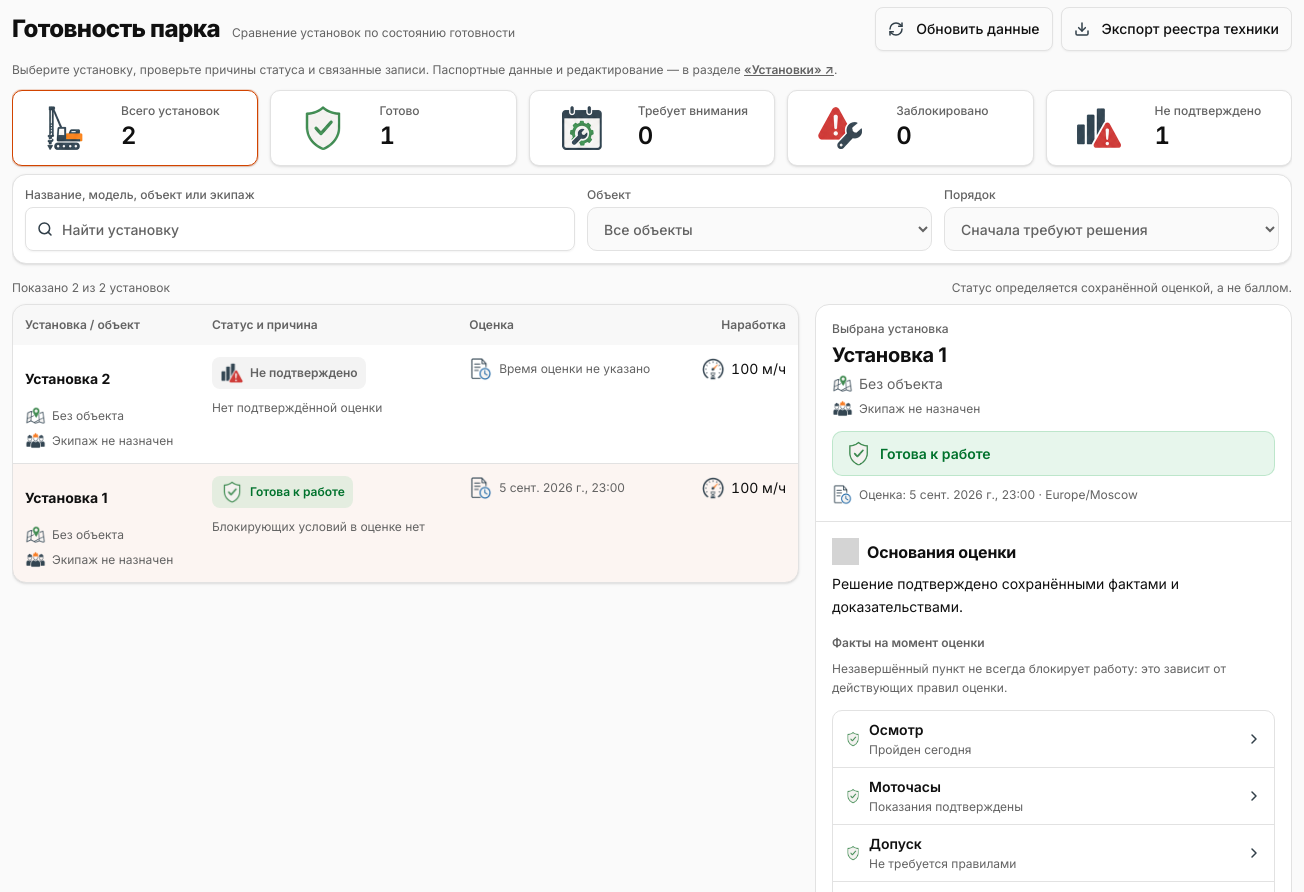
Test case: Fleet evidence interactions › filters by the KPI tile and shows which slice is selected
The image size is (1304, 892).
What coordinates should you click on to do the following:
click the button "Не подтверждено 1"
I would click on:
 (1169, 128)
Its box is [1046, 90, 1292, 166].
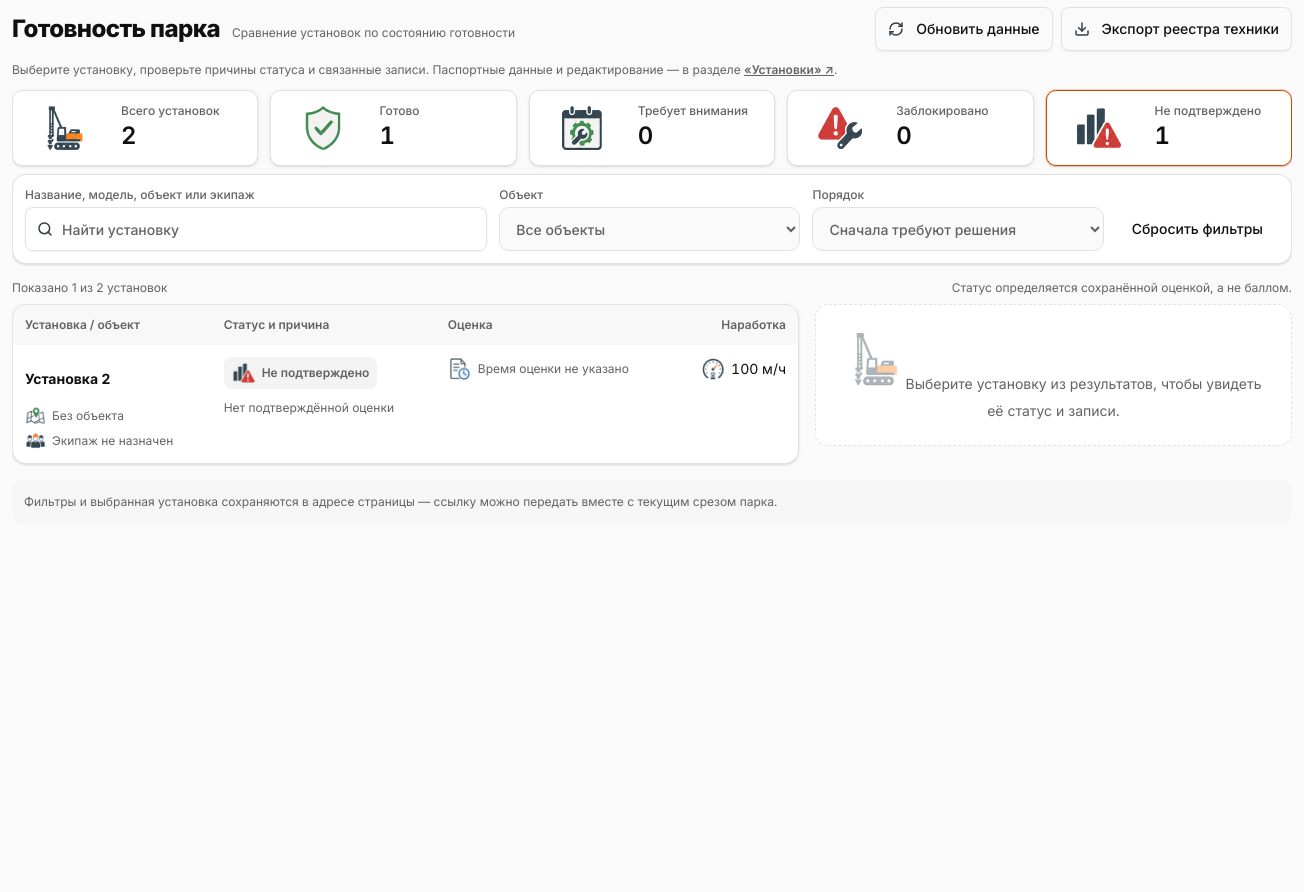
Expected: the message reads "Показано 1 из 2 установок", [12, 280, 168, 296]
